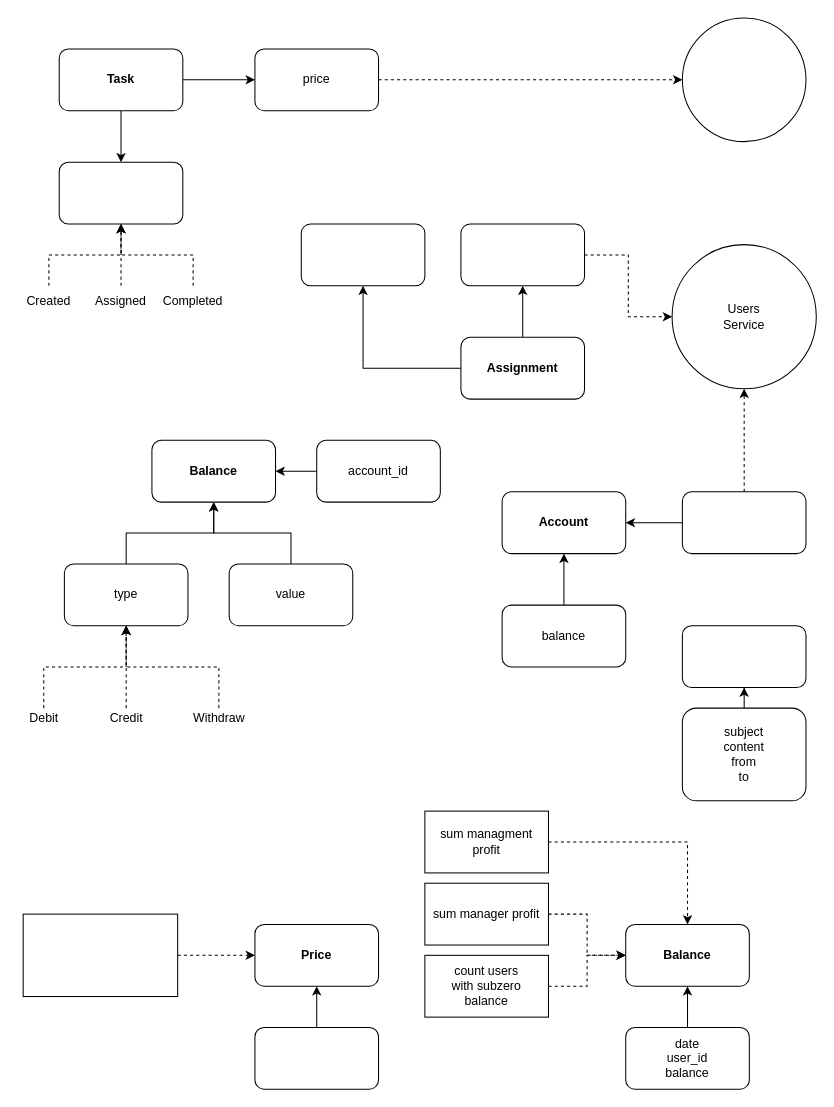
Image size: 834x1107. Some labels were removed from this diagram. Each missing label, with the centre of its shape:
"date price" belongs at point 316,1057.
"Mail" belongs at point 743,656.
"max price today max price at week max price at month" belongs at point 100,955.
"performer_id" belongs at point 522,254.
"Price Calculation Service" belongs at point 743,79.
"status" belongs at point 120,192.
"task_id" belongs at point 362,254.
"user_id" belongs at point 743,522.
